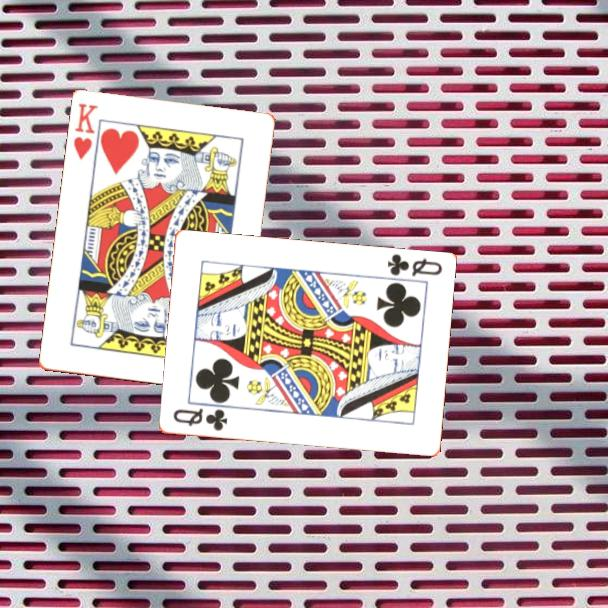c12: (169, 405, 230, 434), (383, 251, 445, 279)
h13: (70, 100, 101, 163)
